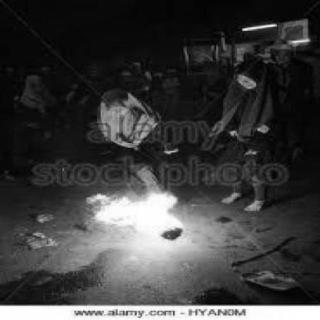Fire: (80, 187, 192, 249)
